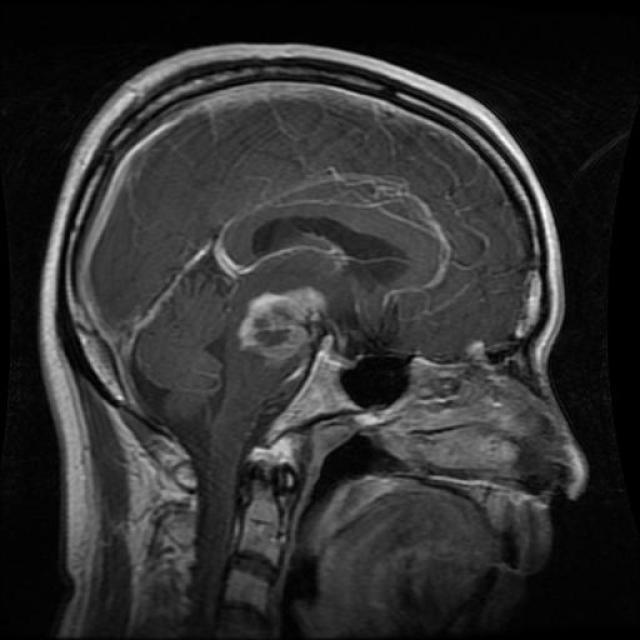glioma: (216, 171, 455, 294)
